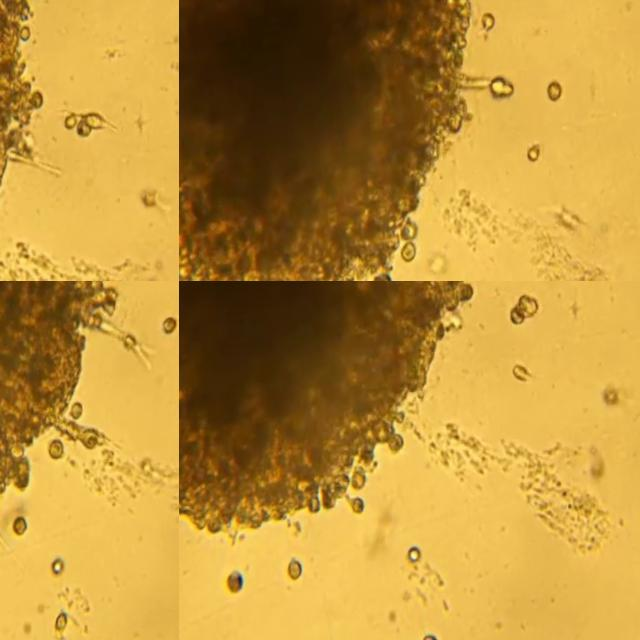cell: (88, 115, 117, 134), (520, 298, 543, 318), (17, 516, 36, 538), (297, 560, 312, 582), (518, 364, 536, 382), (235, 572, 251, 592), (57, 439, 71, 461), (147, 191, 164, 209), (612, 387, 627, 407), (165, 317, 179, 337), (64, 611, 77, 632), (63, 558, 75, 580), (82, 118, 93, 140), (416, 548, 430, 565), (486, 14, 498, 33), (533, 145, 546, 162), (553, 84, 566, 101), (78, 404, 90, 420), (71, 115, 82, 130), (515, 310, 526, 325)
tumor_mass: (179, 0, 521, 281), (179, 281, 478, 543)
